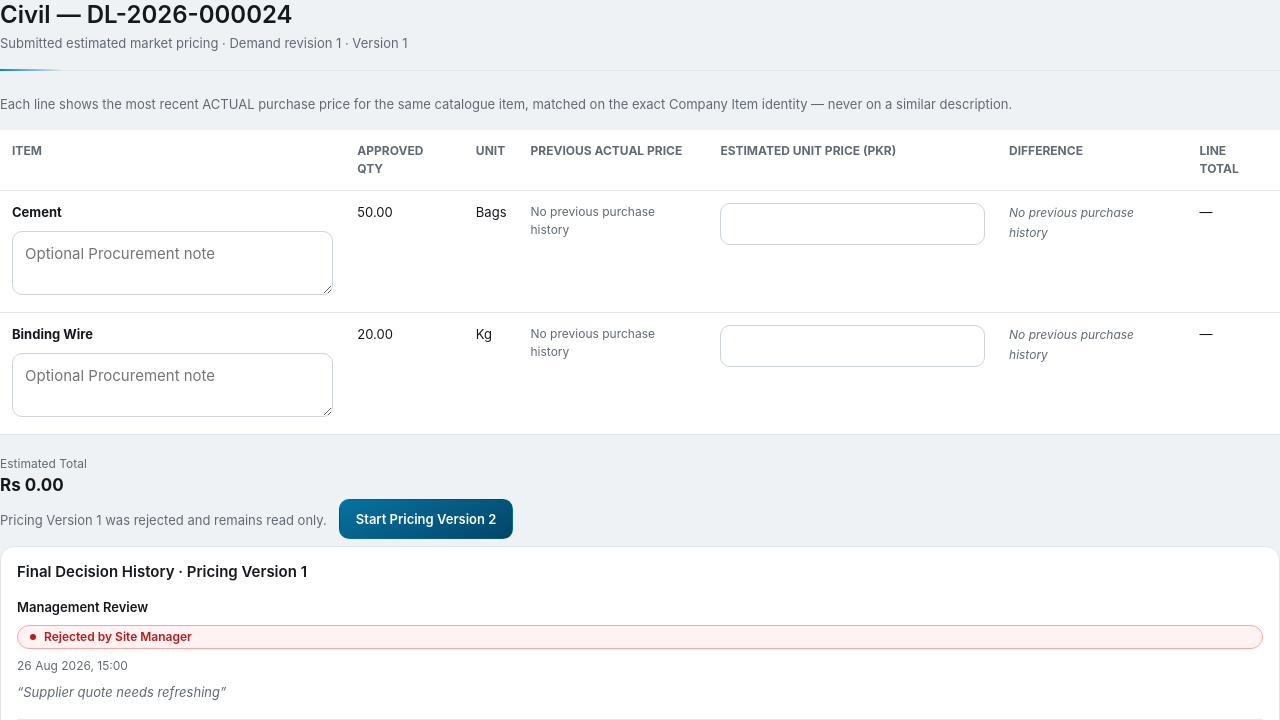
Test: PricingPage › starts a controlled Version 2 draft from repricing-required state
Check: the text "“Supplier quote needs refreshing”" is shown, box [17,684,226,700]
Click the button "Start Pricing Version 2" at (426, 518), box [339,498,513,538]
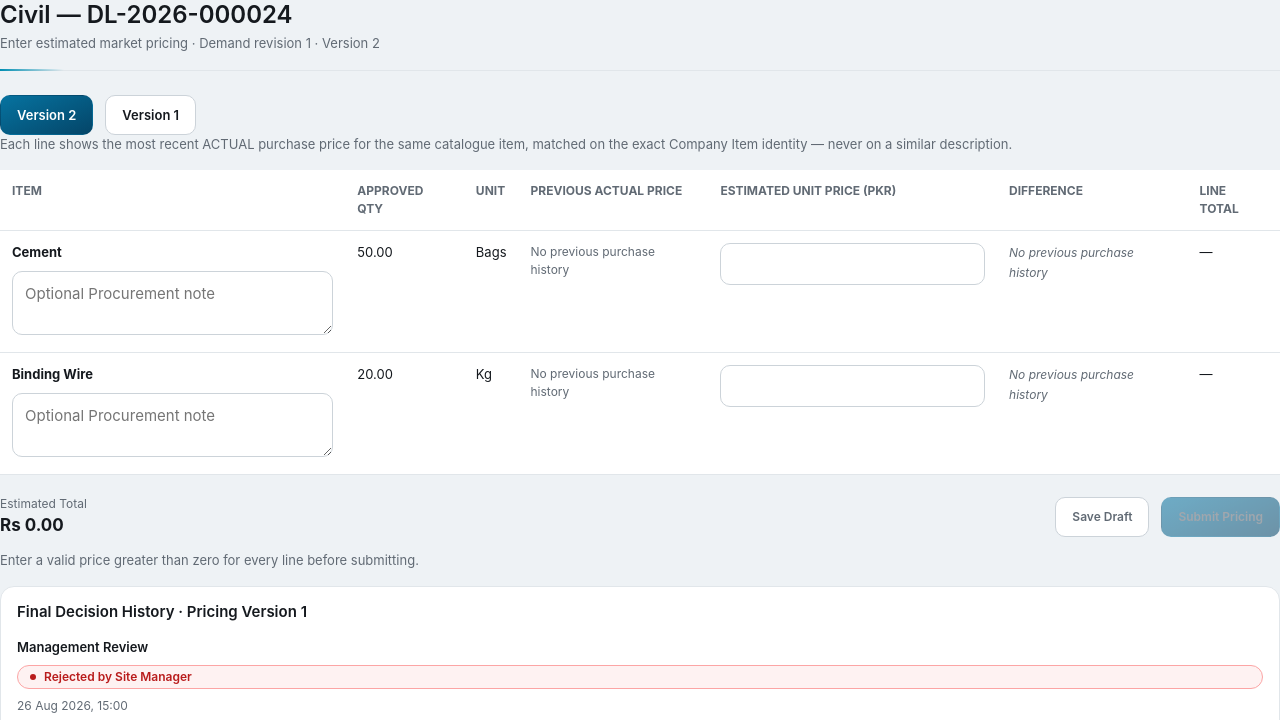
Check: the text "Version 2" is shown, box [0,35,380,51]
Check: the button "Save Draft" is shown, box [1055,497,1150,537]
